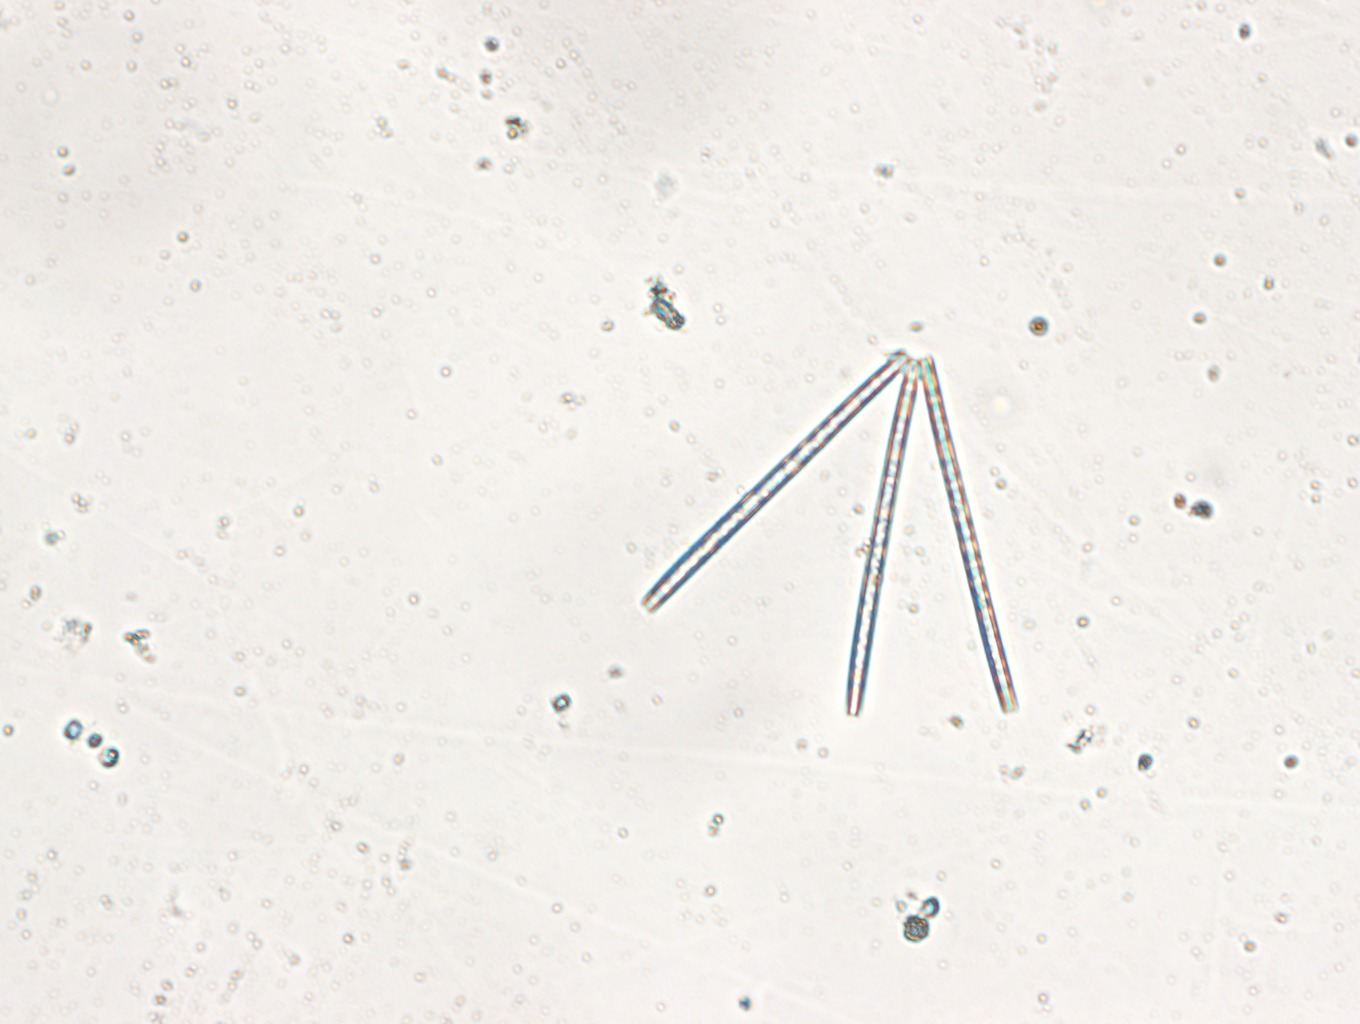thalassionema nitzschioides: (638, 341, 1027, 719)
